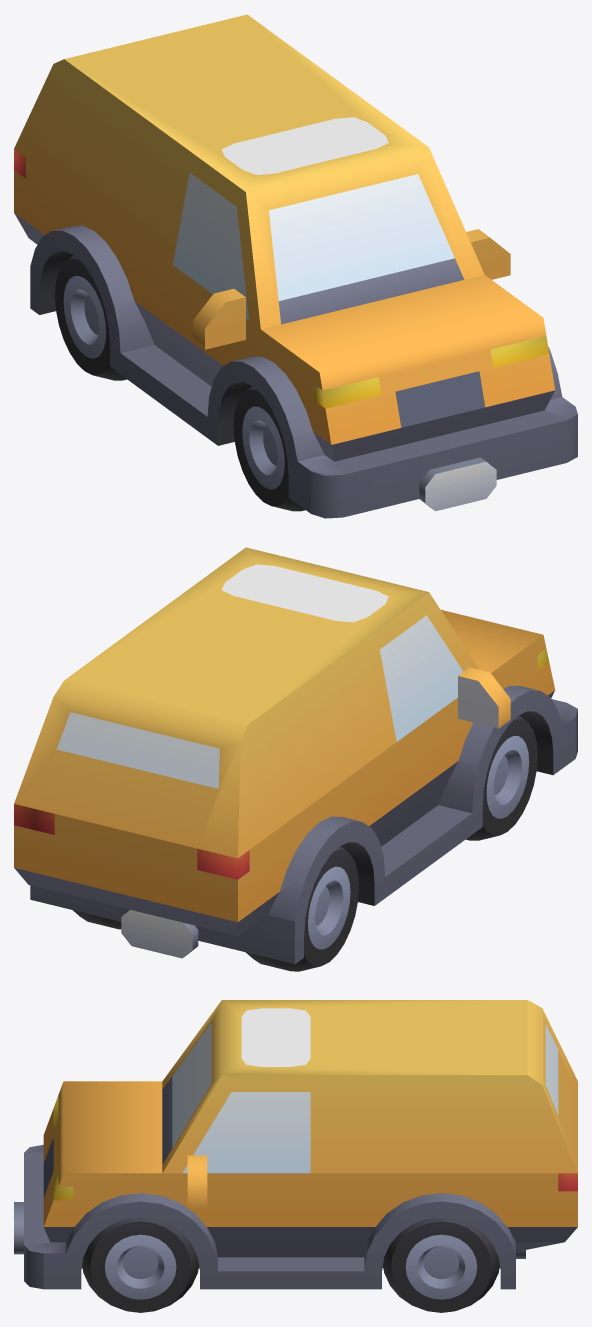
File: k-car-suv-luxury.glb
The picture shows the model from 3 angles, top to bottom: view 1: azimuth 30°, elevation 25°; view 2: azimuth 150°, elevation 25°; view 3: azimuth 270°, elevation 25°; orthographic projection. The views are drawn at different scales.
Visible parts, largest first — view 1: body, wheel-front-right, wheel-back-right; view 2: body, wheel-back-right, wheel-front-right; view 3: body, wheel-back-left, wheel-front-left.
Part boxes in pixels (x1,y1,x2,y2): body: (14,14,577,518); wheel-front-right: (233,386,305,511); wheel-back-right: (55,255,126,380); body: (14,547,577,964); wheel-back-right: (246,846,358,971); wheel-front-right: (466,715,537,840); body: (14,1000,577,1289); wheel-back-left: (383,1217,499,1312); wheel-front-left: (82,1217,198,1312).
Size of the model in its own units: 1.5 by 1.3 by 2.85.
1 material, 1 textured.
